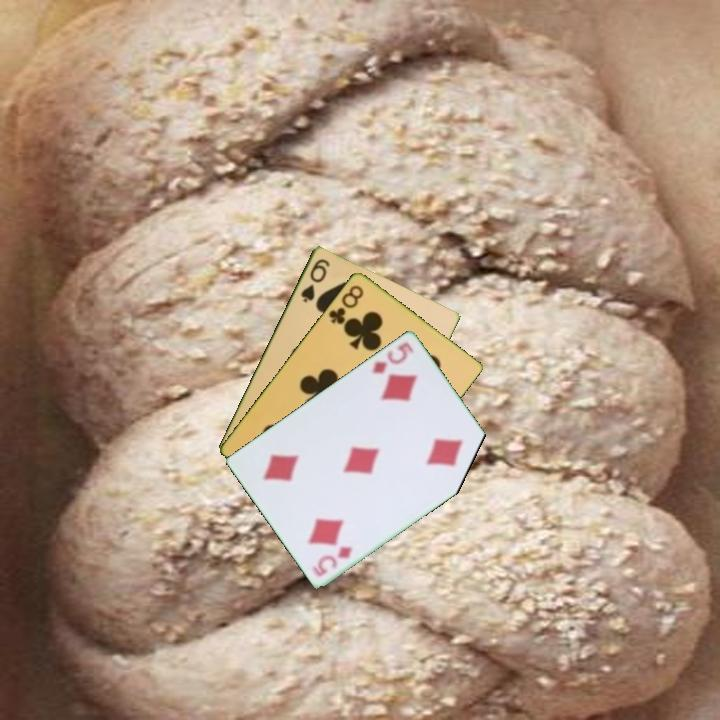5d: (369, 338, 417, 376), (310, 542, 355, 580)
6s: (297, 255, 332, 305)
8c: (325, 281, 367, 327)
